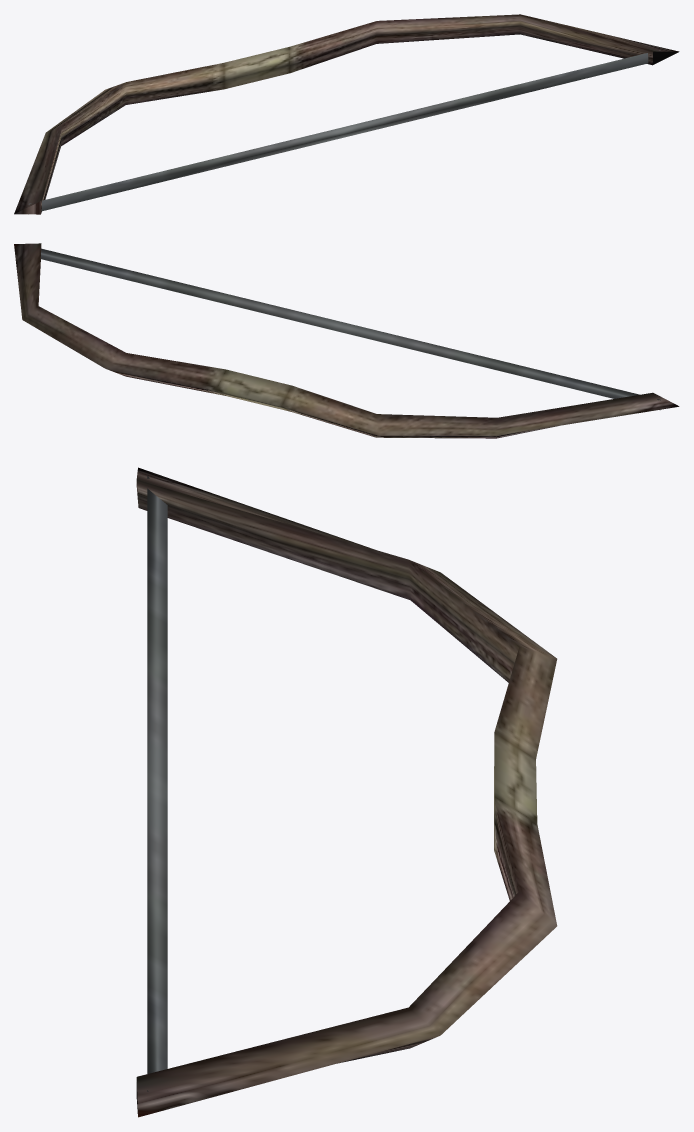
Rendered from ITRW_BOW_L_VANILLA_01.glb.
3 views of the same model, one above another, from view 1: azimuth 30°, elevation 25°; view 2: azimuth 150°, elevation 25°; view 3: azimuth 270°, elevation 25° (orthographic). The views are drawn at different scales.
Parts seen in each view (by area): view 1: ITRW_BOW_L_VANILLA_01; view 2: ITRW_BOW_L_VANILLA_01; view 3: ITRW_BOW_L_VANILLA_01.
Part boxes in pixels (x1,y1,x2,y2): ITRW_BOW_L_VANILLA_01: [14, 14, 679, 214]; ITRW_BOW_L_VANILLA_01: [14, 243, 679, 438]; ITRW_BOW_L_VANILLA_01: [136, 467, 557, 1117].
Size of the model in its own units: 1.13 by 0.0433 by 0.3099.
1 material, 1 textured.
